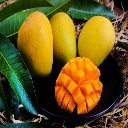mango: (17, 10, 53, 78), (78, 9, 115, 69), (47, 12, 77, 68)
